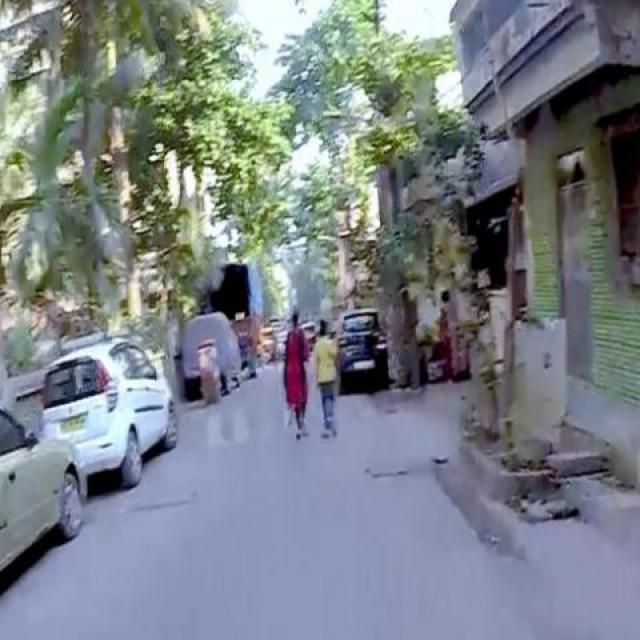Pothole: (185, 399, 288, 454), (108, 481, 208, 522), (351, 462, 458, 491)
